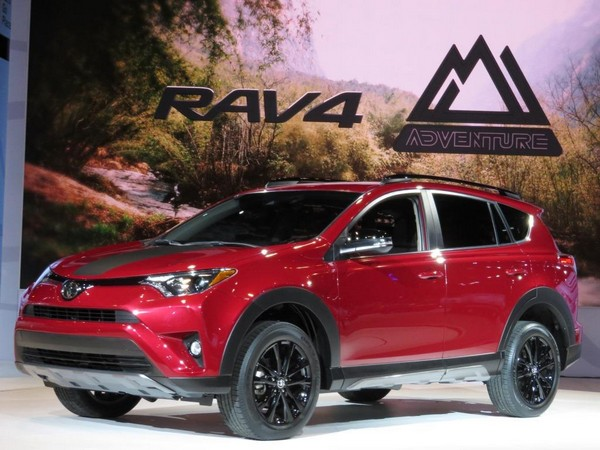Toyota RAV-4: (12, 171, 586, 442)
